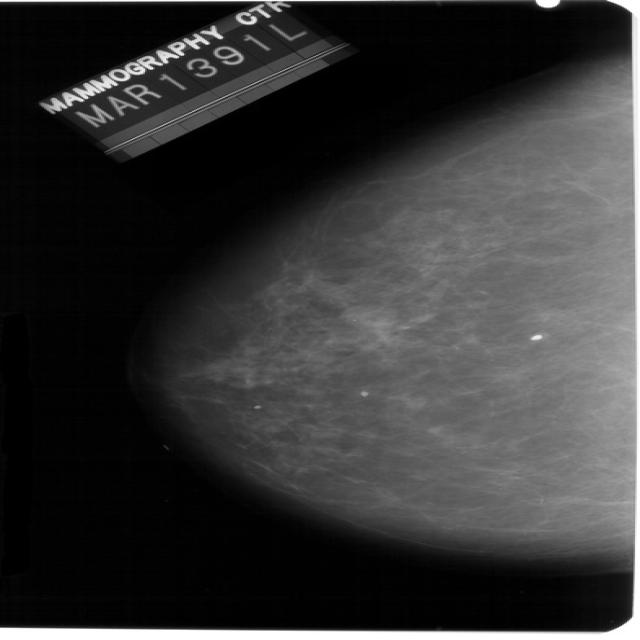tumour: (337, 303, 394, 327)
